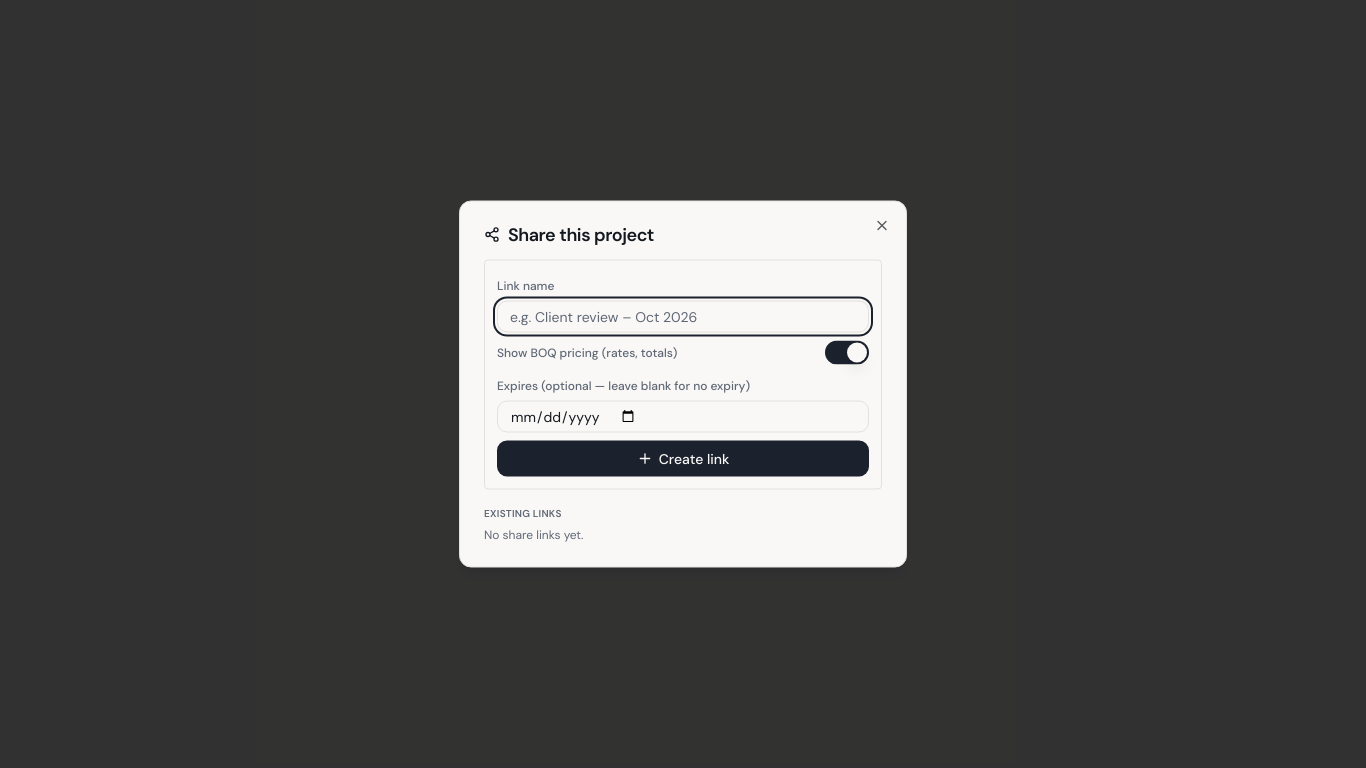
Test: ShareLinksDialog — creating a link › shows the raw token exactly once after a successful create
The width and height of the screenshot is (1366, 768).
Type "Reviewer link" into the field with placeholder "e.g. Client review – Oct 2026" at (683, 316), box [497, 300, 869, 332]
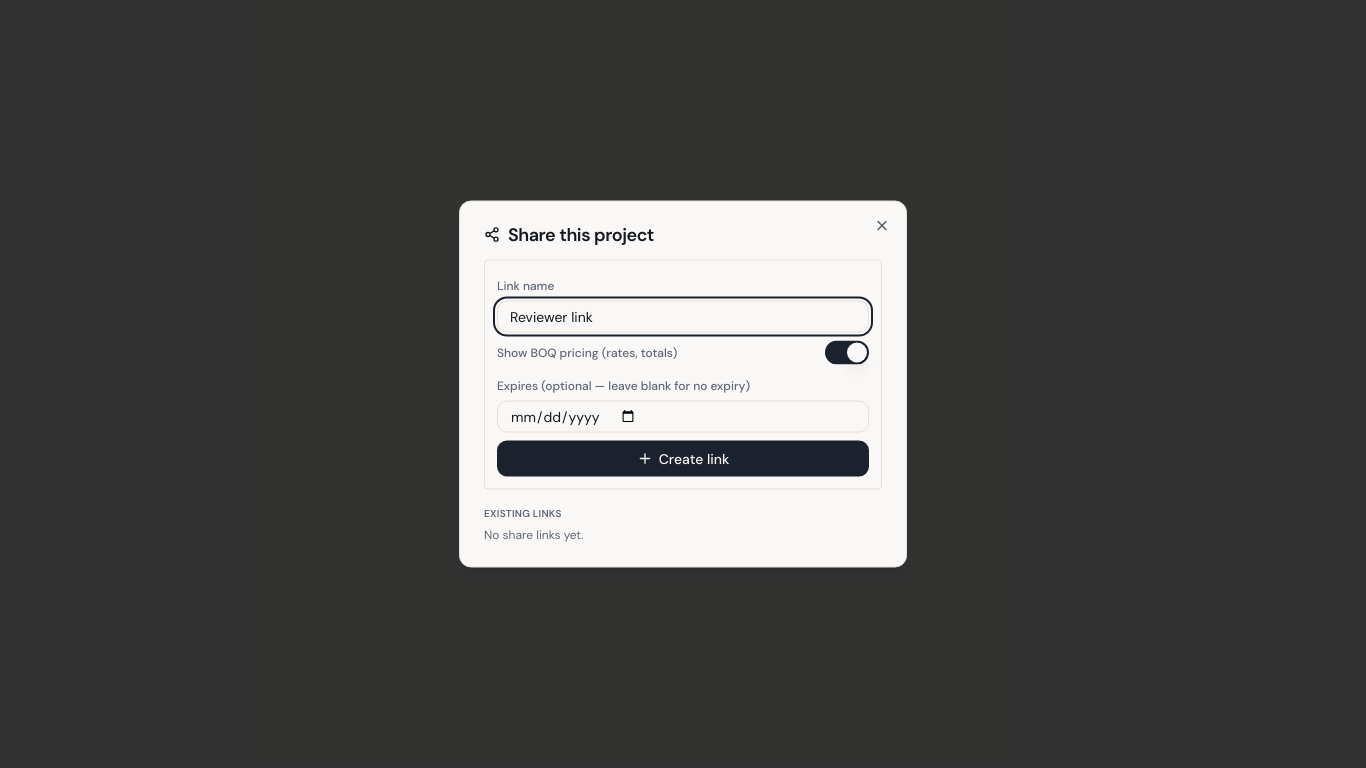
Click the button "Create link" at (683, 458), box [497, 440, 869, 476]
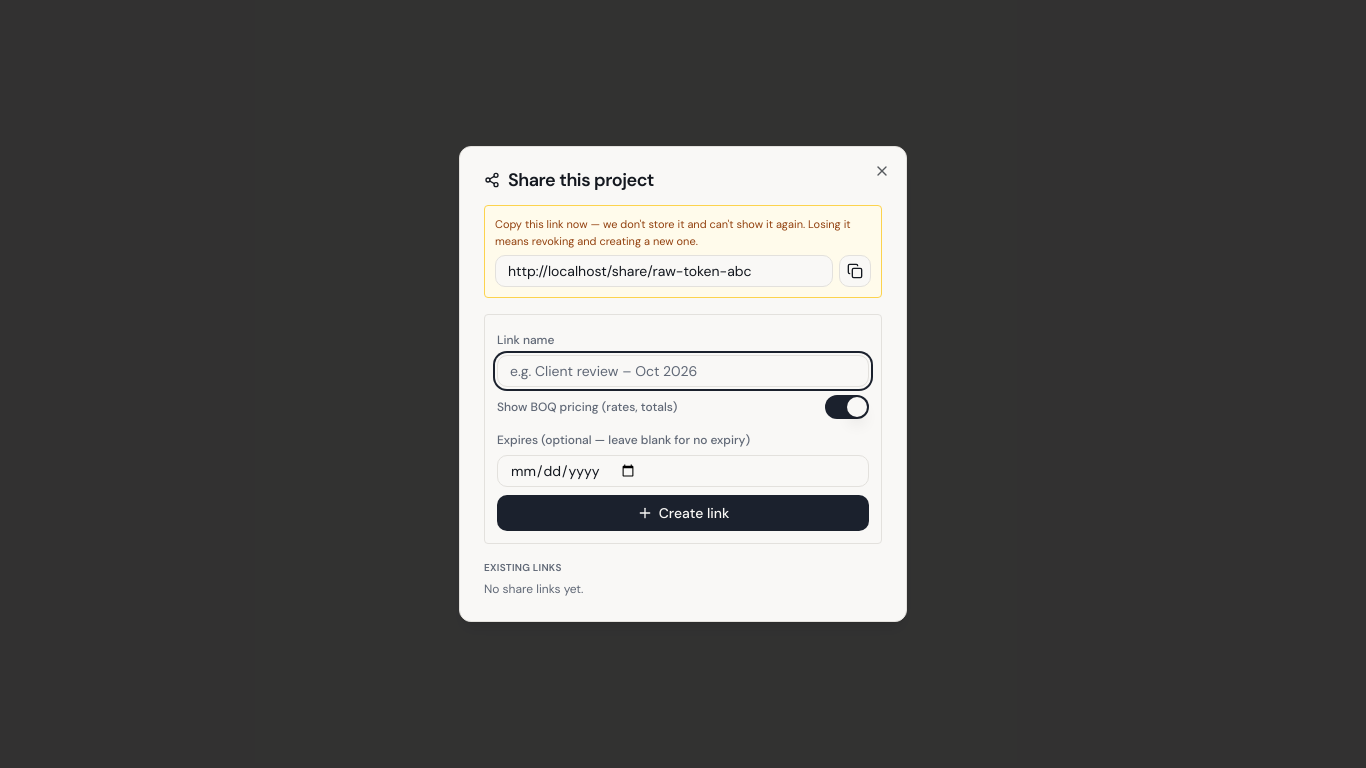
Check: the field showing "/share/raw-token-abc" is shown, box [495, 255, 833, 287]
